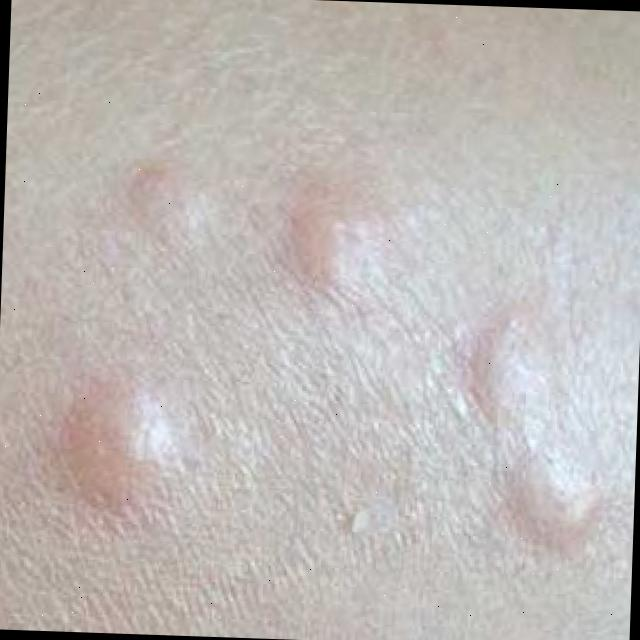kan emici bocekler: (5, 372, 197, 520), (263, 164, 422, 338), (425, 295, 583, 427), (456, 437, 607, 545), (89, 149, 198, 286)
